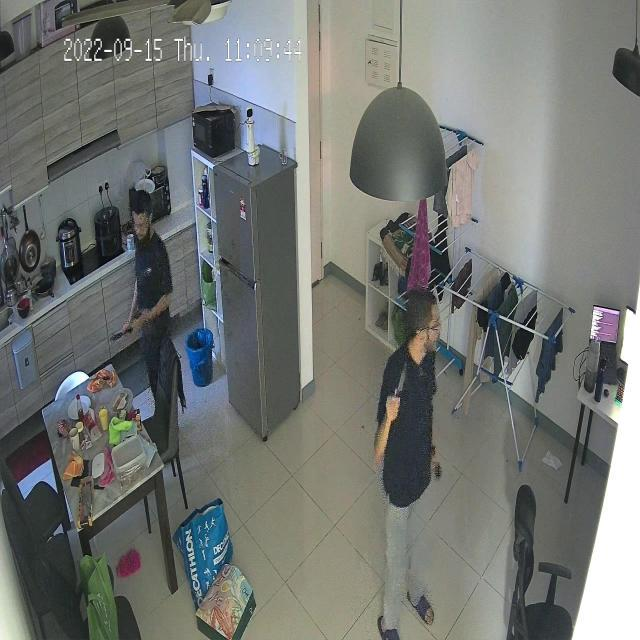Knife: (389, 363, 416, 400)
